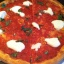basil: (4, 50, 21, 62), (18, 22, 30, 36), (55, 8, 64, 23), (3, 18, 13, 28)
pizza: (1, 1, 63, 64)
